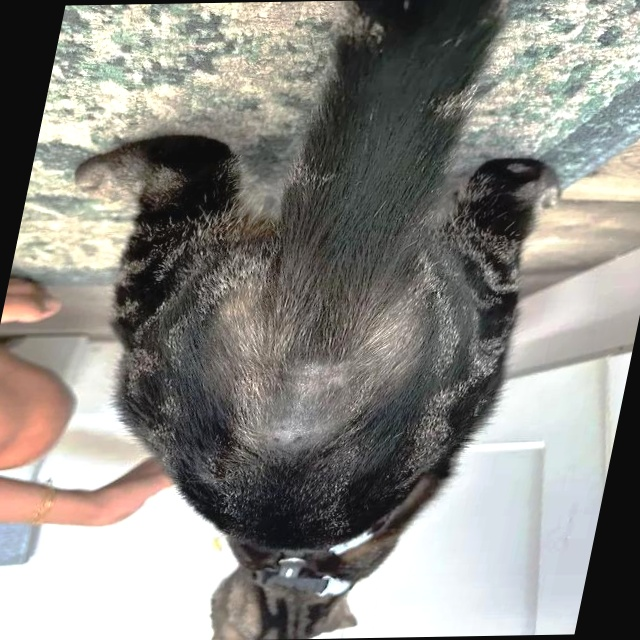hairloss: (240, 349, 356, 461)
